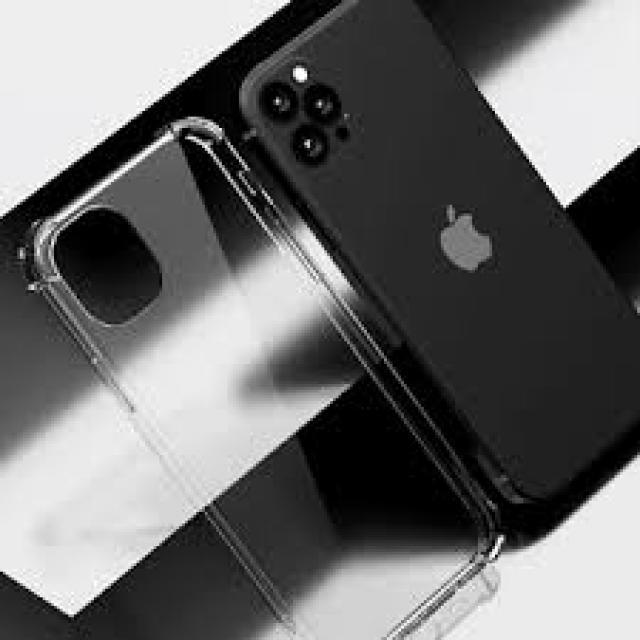phone: (246, 6, 636, 501)
